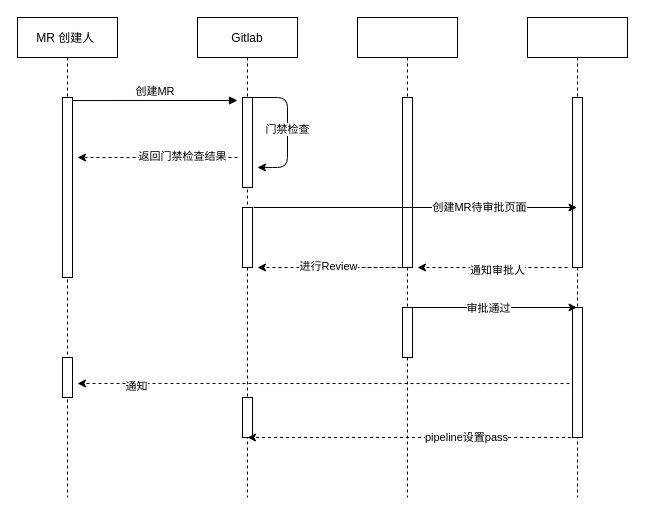
Some shapes in this 645 by 515 pixel diagram are drawn without their labels. Here are the shapes that lost their labels. From the top down, the centre of each, then its label:
At (407,257): "MR 审批人".
At (577,257): "质测平台".
